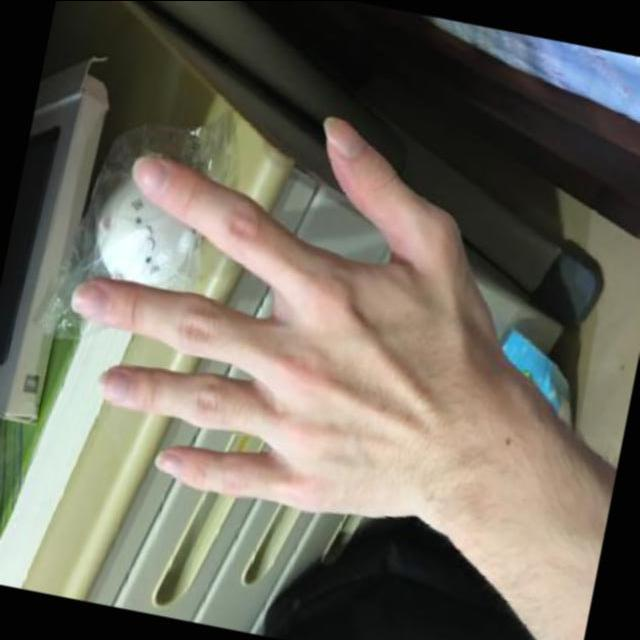hand: (26, 56, 560, 562)
